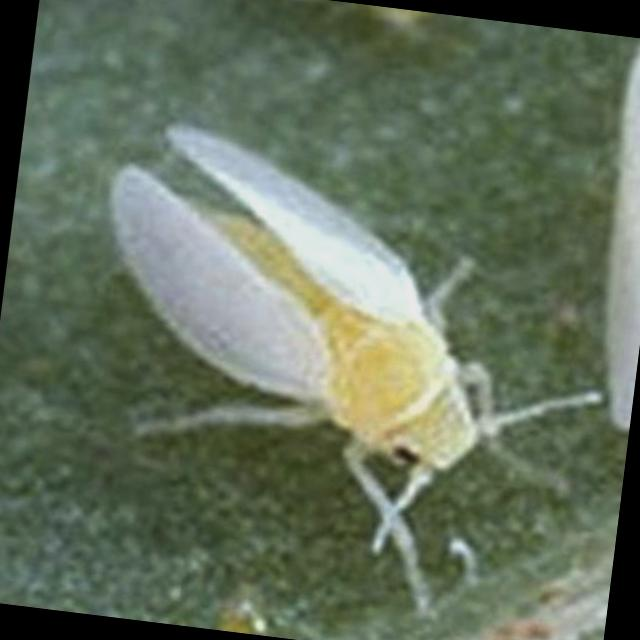Silverleaf whitefly: (48, 94, 619, 604)
